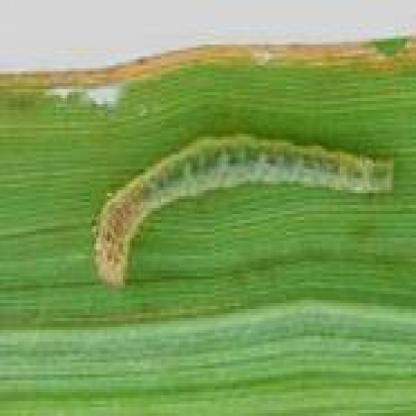leaf-folder: (78, 126, 398, 298)
